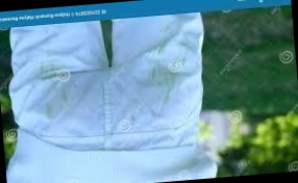earth: (141, 59, 183, 101), (54, 84, 70, 104), (45, 103, 56, 118)
